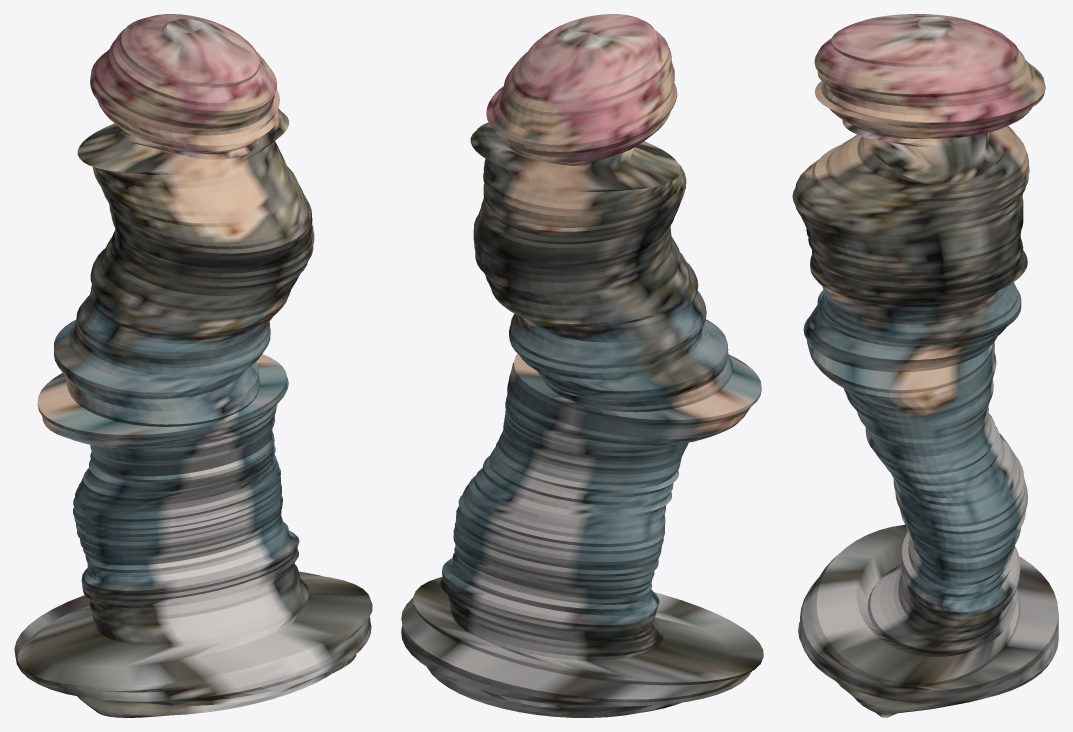
Rendered from Lena_Reconstruction_V2.glb.
3 renders of one model, left to right at view 1: azimuth 30°, elevation 25°; view 2: azimuth 150°, elevation 25°; view 3: azimuth 270°, elevation 25°, orthographic. The views are drawn at different scales.
Visible parts, largest first — view 1: world; view 2: world; view 3: world.
Boxes of the visible parts, left/top/right/bottom form: world: left=14, top=14, right=372, bottom=717; world: left=401, top=14, right=763, bottom=717; world: left=792, top=14, right=1058, bottom=717.
Bounding box in the file's own units: 1.91 × 3.5 × 1.35.
